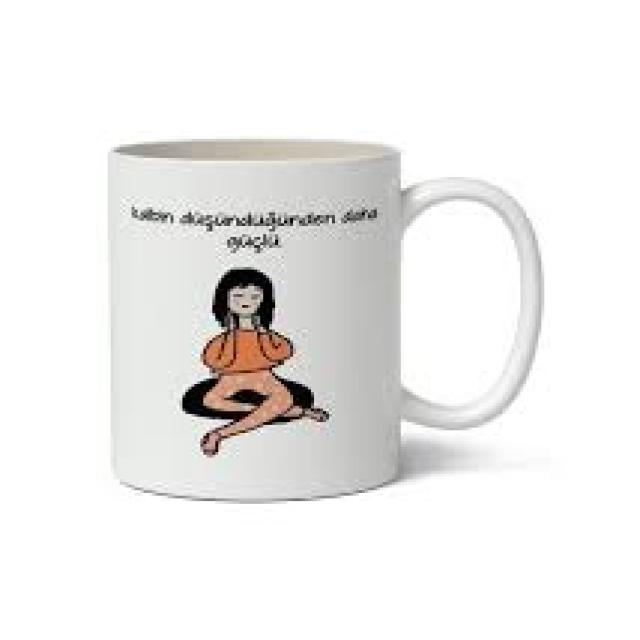taza: (107, 136, 545, 504)
